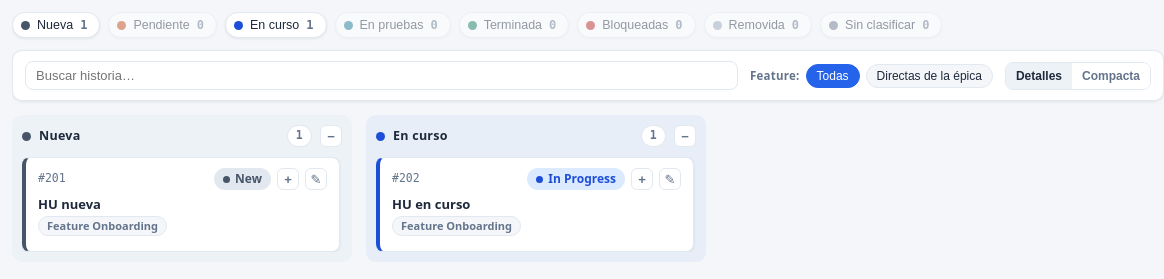
TableroHistorias › aisla una columna desde el cinturón de estados
Click the button "En curso 1".
click(276, 25)  # box [225,12,326,38]
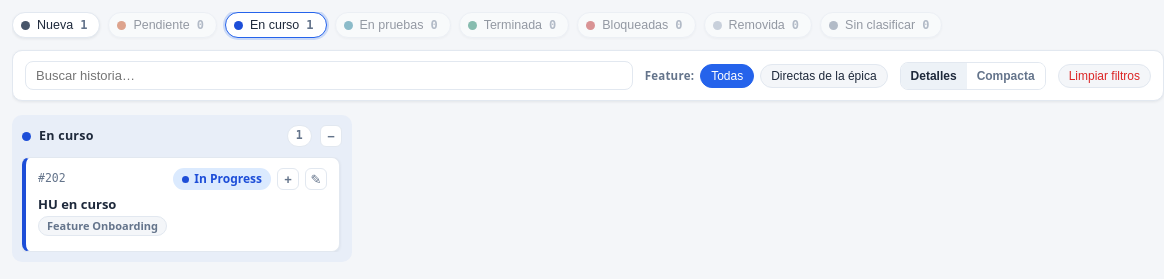
Expected: the heading "HU en curso" is shown, [38,195,116,213]
Result: the heading "HU nueva" is gone
